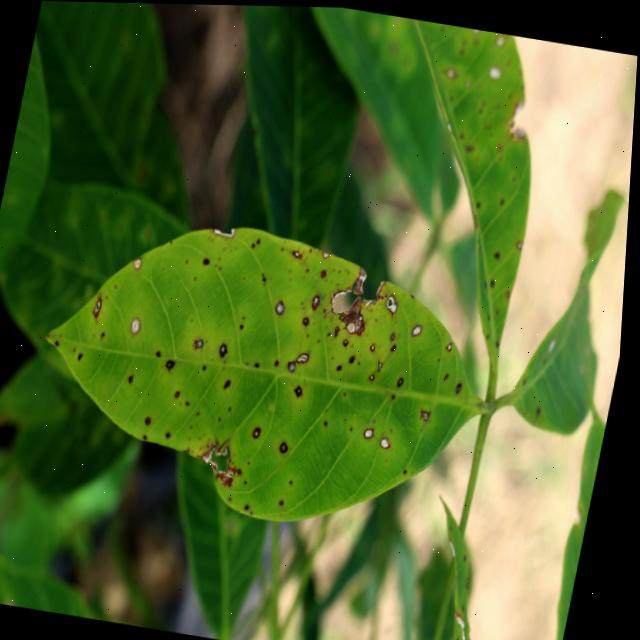Colletotrichum: (133, 317, 146, 335), (300, 350, 314, 364), (278, 299, 290, 315), (384, 434, 397, 448), (415, 322, 427, 336), (223, 342, 234, 357), (314, 293, 324, 309), (284, 439, 295, 453), (368, 426, 379, 439), (297, 384, 308, 397), (291, 359, 301, 371), (199, 337, 209, 348), (170, 359, 179, 370), (401, 376, 409, 387), (306, 315, 313, 326), (149, 416, 157, 425), (323, 268, 331, 277), (373, 342, 380, 351), (394, 330, 400, 340), (373, 372, 380, 380), (353, 354, 359, 363), (347, 337, 353, 345), (338, 324, 344, 331), (395, 342, 400, 350), (133, 375, 138, 383), (278, 359, 284, 365), (341, 363, 346, 369), (179, 391, 184, 397), (206, 365, 211, 370), (384, 294, 388, 298), (327, 307, 330, 312), (389, 292, 392, 296)
